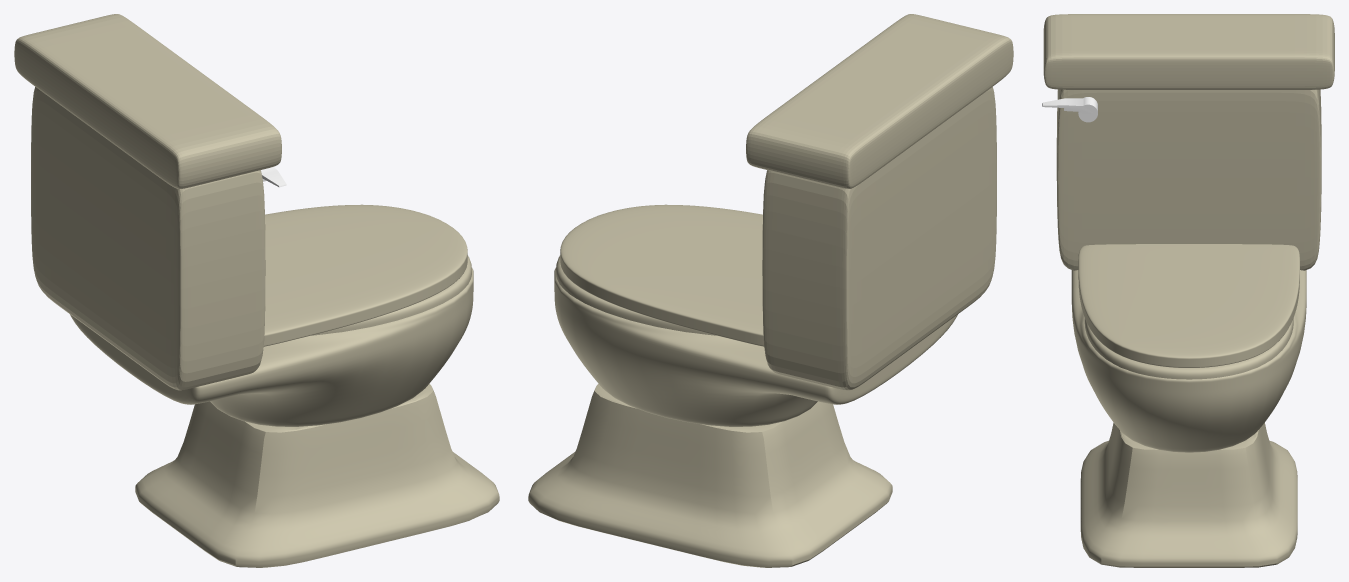
File: Toilet (Closed).fbx
3 views of the same model, side by side, from view 1: azimuth 30°, elevation 25°; view 2: azimuth 150°, elevation 25°; view 3: azimuth 270°, elevation 25° (orthographic). The views are drawn at different scales.
Visible parts, largest first — view 1: Cylinder, Plane.002; view 2: Cylinder, Plane.002; view 3: Cylinder, Plane.002.
Part boxes in pixels (x1,y1,x2,y2): Cylinder: [14, 14, 499, 567]; Plane.002: [263, 204, 467, 346]; Cylinder: [528, 14, 1013, 567]; Plane.002: [560, 204, 764, 346]; Cylinder: [1042, 14, 1334, 567]; Plane.002: [1078, 244, 1299, 367].
Bounding box in the file's own units: 3.38 × 4.11 × 2.7.
